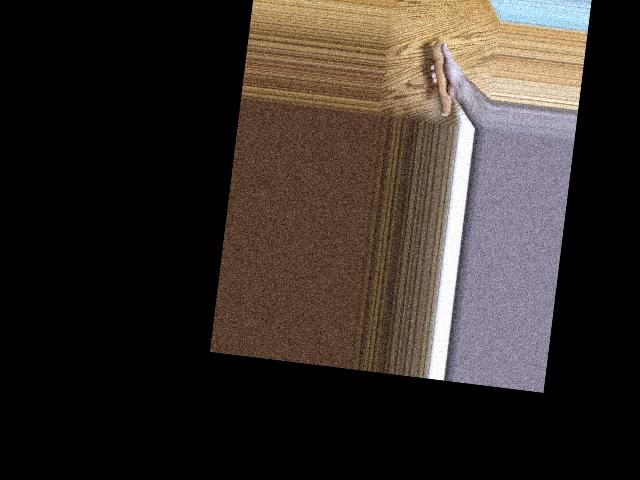sweet_potato: (424, 40, 460, 117)
